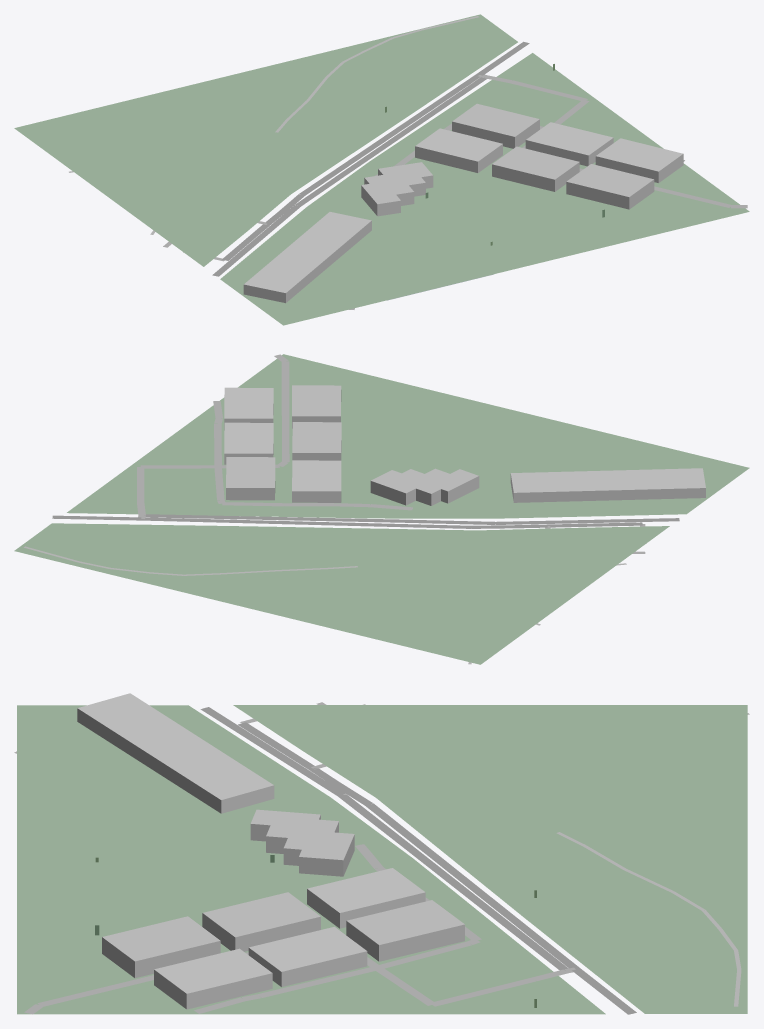
3 views of the same model, one above another, from view 1: azimuth 30°, elevation 25°; view 2: azimuth 150°, elevation 25°; view 3: azimuth 270°, elevation 25° (orthographic). The views are drawn at different scales.
Bounding box in the file's own units: 514 × 15.47 × 504.
